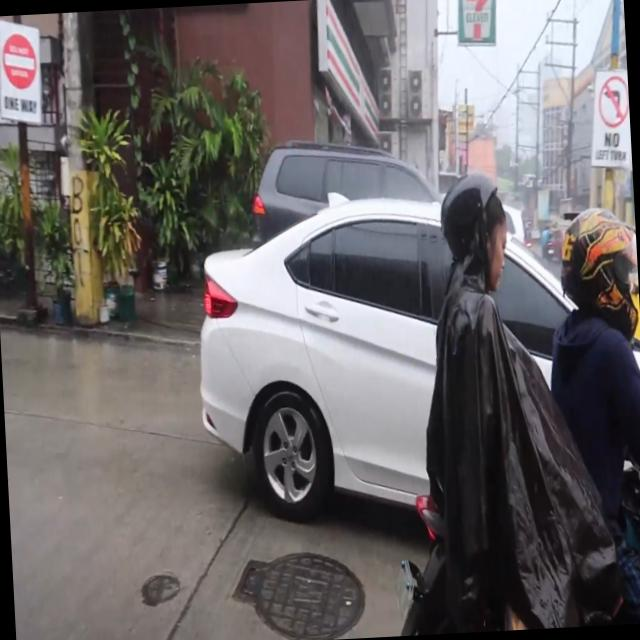full: (556, 200, 640, 343)
invalid: (436, 169, 502, 256)
